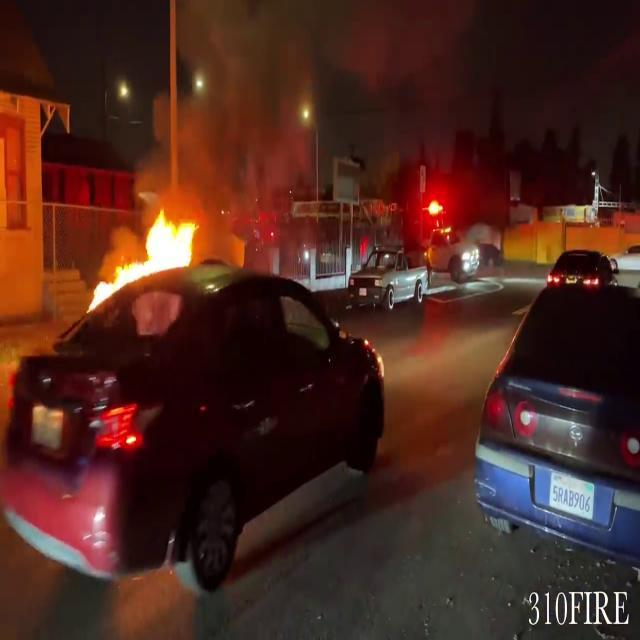Fire: (86, 196, 204, 304)
Smoke: (148, 0, 318, 246)
